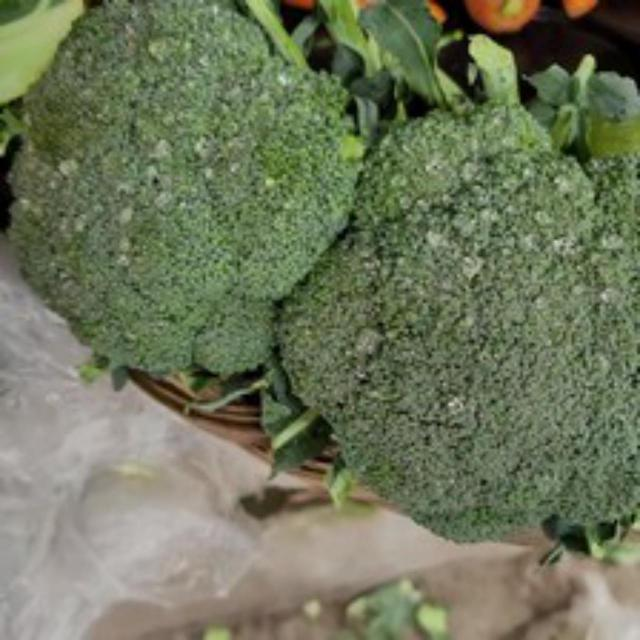broccoli: (300, 97, 637, 548)
